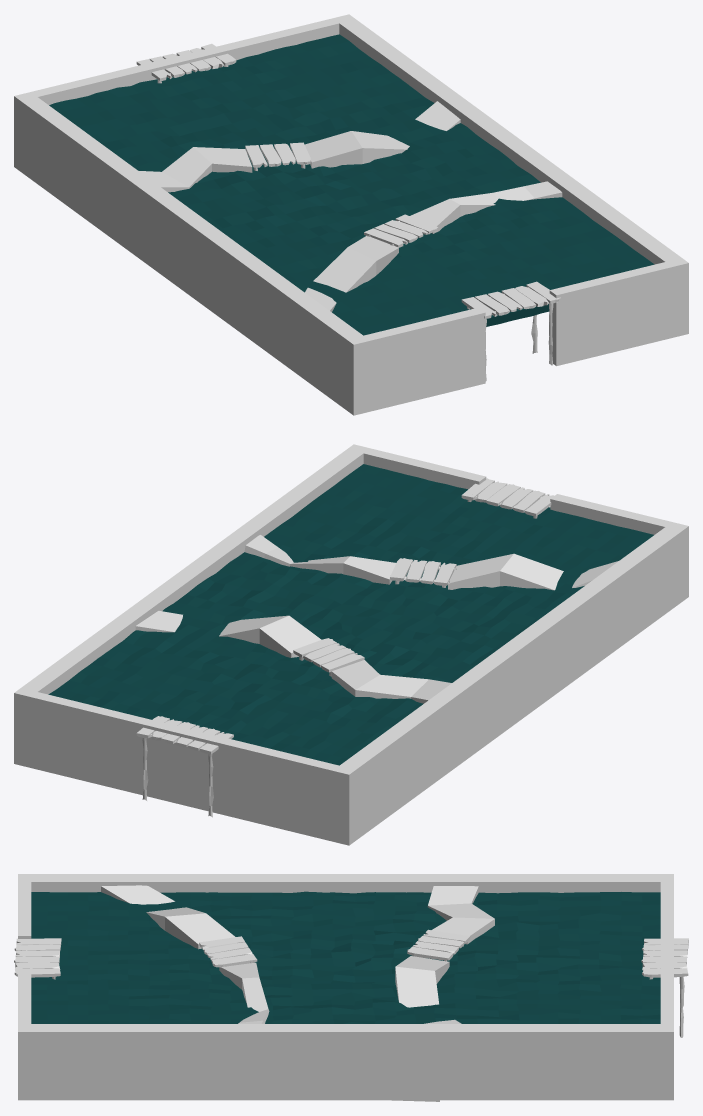
File: garden_section1_wave2.fbx
3 renders of one model, top to bottom at view 1: azimuth 30°, elevation 25°; view 2: azimuth 150°, elevation 25°; view 3: azimuth 270°, elevation 25°, orthographic. The views are drawn at different scales.
Visible parts, largest first — view 1: water, WALL, Cube.001, Cube.002, Cube.003, Cylinder.004, Cube, Cylinder.006, Cylinder.007, Cylinder.001; view 2: water, WALL, Cube.002, Cube.001, Cube.003, Cube, Cylinder.004, Cylinder.001, Cylinder.006, Cylinder.007; view 3: water, WALL, Cube.002, Cube.003, Cube.001, Cylinder.004, Cube, Cylinder.001, Cylinder.006, Cylinder.007.
Boxes of the visible parts, left/top/right/bottom form: water: left=49, top=34, right=654, bottom=335; WALL: left=14, top=14, right=688, bottom=415; Cube.001: left=305, top=101, right=460, bottom=168; Cube.002: left=305, top=235, right=398, bottom=312; Cube.003: left=139, top=147, right=252, bottom=192; Cylinder.004: left=461, top=281, right=561, bottom=381; Cube: left=410, top=181, right=562, bottom=233; Cylinder.006: left=245, top=142, right=310, bottom=170; Cylinder.007: left=364, top=214, right=438, bottom=247; Cylinder.001: left=136, top=43, right=236, bottom=83; water: left=48, top=464, right=653, bottom=765; WALL: left=14, top=444, right=688, bottom=845; Cube.002: left=448, top=553, right=618, bottom=590; Cube.001: left=135, top=611, right=321, bottom=657; Cube.003: left=331, top=660, right=451, bottom=703; Cube: left=244, top=535, right=396, bottom=584; Cylinder.004: left=461, top=478, right=554, bottom=518; Cylinder.001: left=136, top=716, right=233, bottom=817; Cylinder.006: left=293, top=638, right=364, bottom=676; Cylinder.007: left=390, top=558, right=456, bottom=587; water: left=31, top=891, right=660, bottom=1023; WALL: left=18, top=874, right=673, bottom=1100; Cube.002: left=101, top=885, right=235, bottom=949; Cube.003: left=427, top=886, right=494, bottom=944; Cube.001: left=395, top=956, right=461, bottom=1023; Cylinder.004: left=14, top=938, right=61, bottom=979; Cube: left=219, top=962, right=439, bottom=1101; Cylinder.001: left=641, top=938, right=688, bottom=1037; Cylinder.006: left=407, top=929, right=470, bottom=961; Cylinder.007: left=199, top=936, right=257, bottom=967.
Size of the model in its own units: 5806 by 1338 by 10489.
